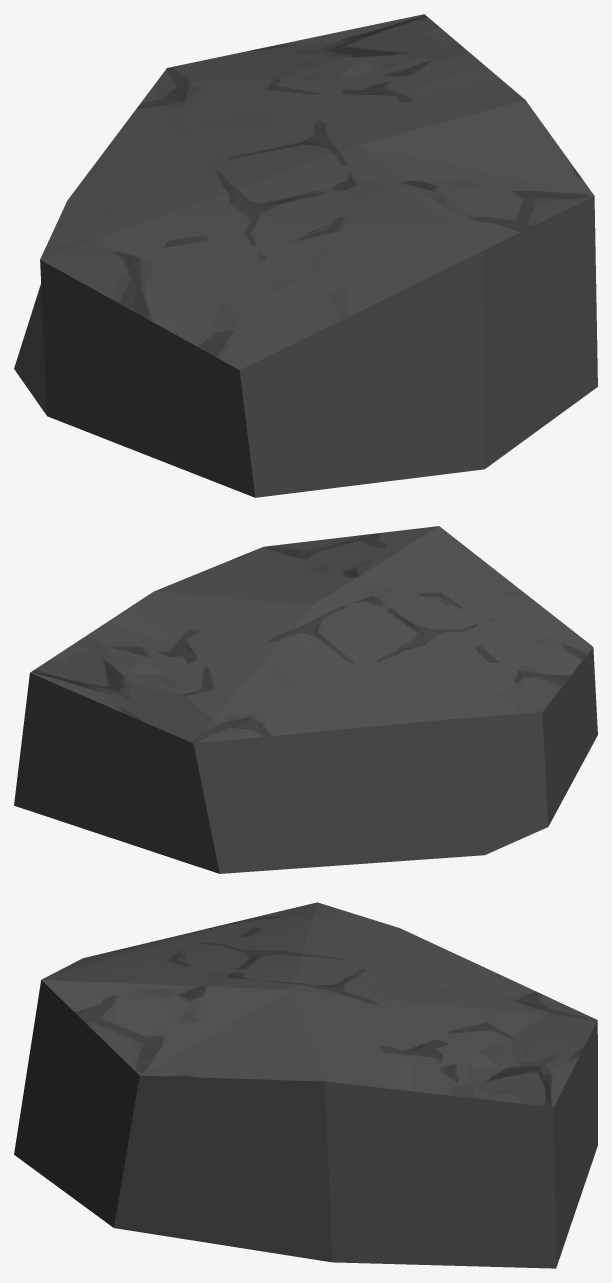
Rendered from SM_Env_Rubble_Stone_01.fbx.
3 views of the same model, one above another, from view 1: azimuth 30°, elevation 25°; view 2: azimuth 150°, elevation 25°; view 3: azimuth 270°, elevation 25° (orthographic). The views are drawn at different scales.
Visible parts, largest first — view 1: SM_Env_Rubble_Stone_01; view 2: SM_Env_Rubble_Stone_01; view 3: SM_Env_Rubble_Stone_01.
Part boxes in pixels (x1,y1,x2,y2): SM_Env_Rubble_Stone_01: (14,14,597,497); SM_Env_Rubble_Stone_01: (14,526,597,873); SM_Env_Rubble_Stone_01: (14,902,597,1268).
Bounding box in the file's own units: 0.7211 × 0.318 × 0.7659.
